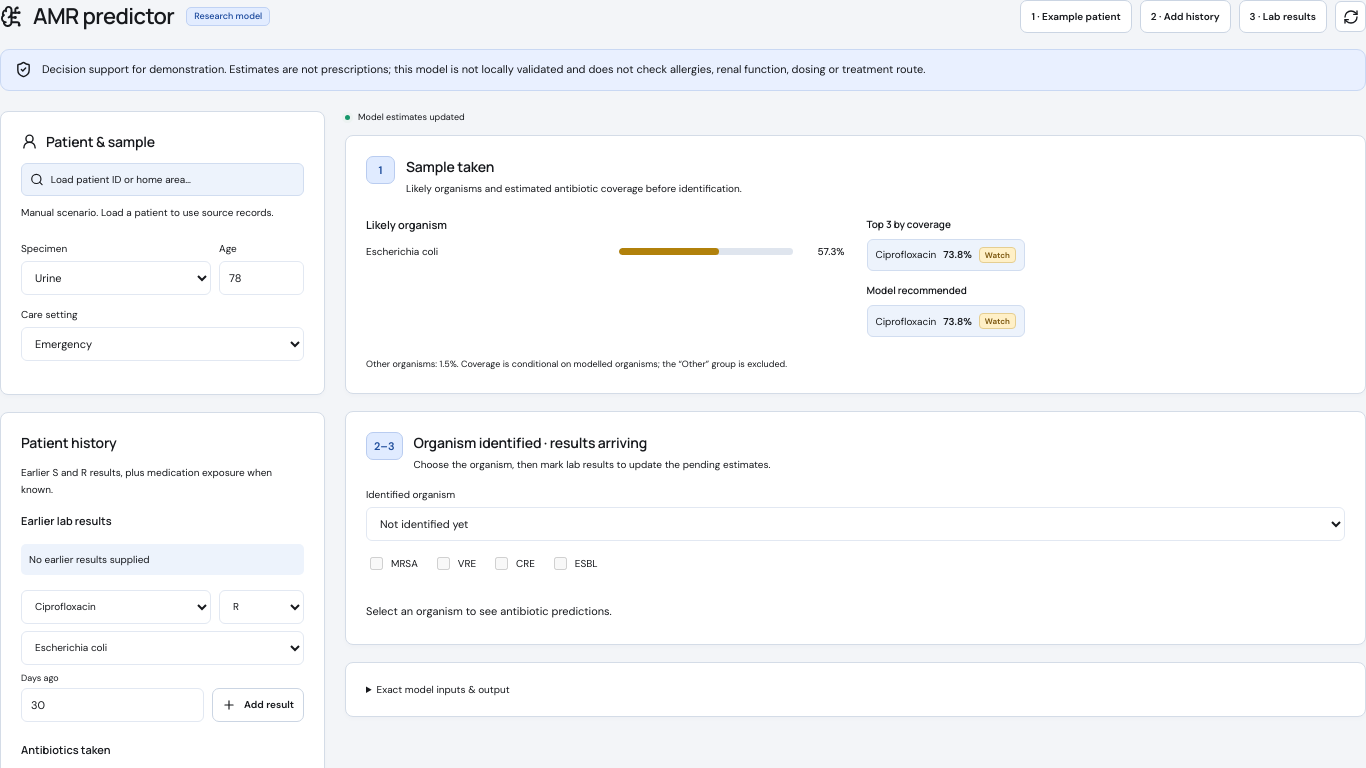
Test: AMR predictor page › updates pending/S/R inputs and shows the supplied explanation
Expected: the text "57.3%" is shown, [818,245,844,258]
Select "Escherichia coli" in the dropdown named "Predictor organism": (856, 524) [366,507,1345,541]
(page scrolled)
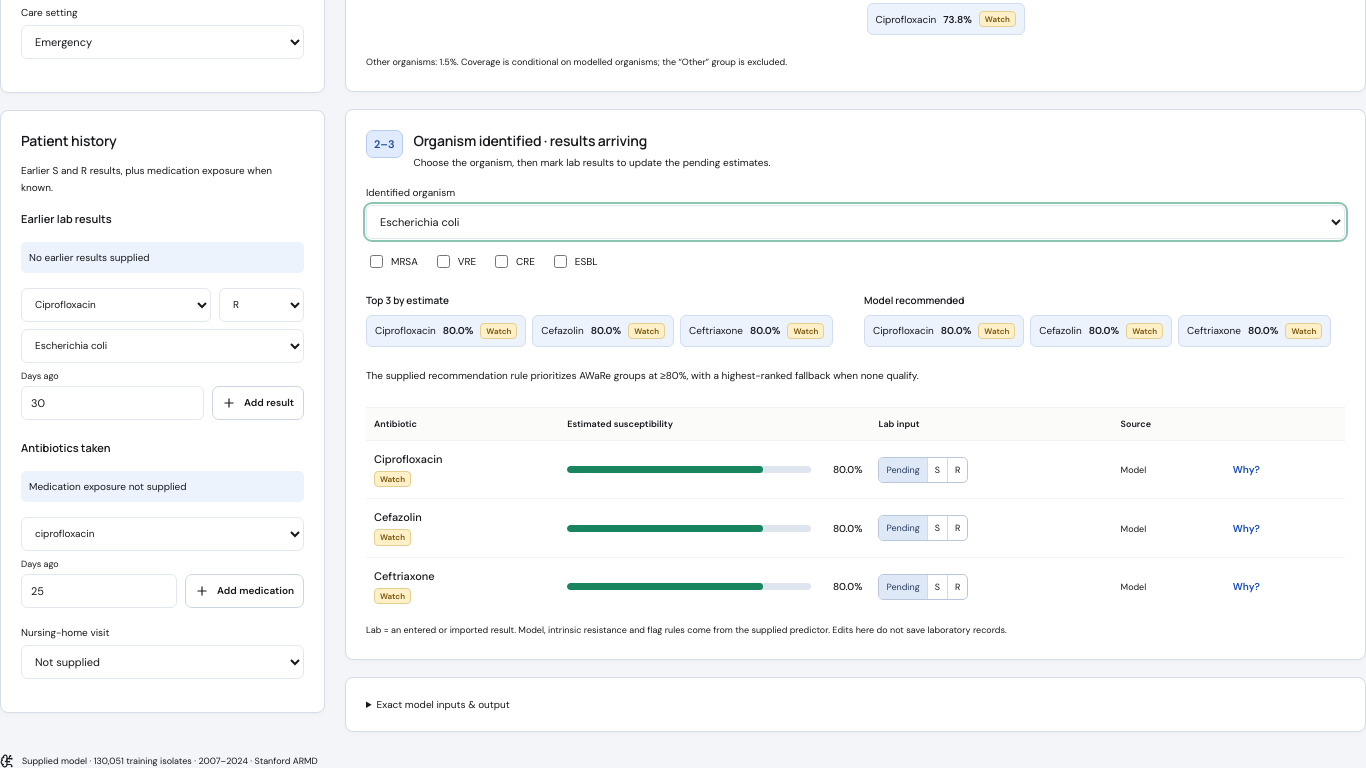
Click the 1st button "R": click(958, 470) [948,458,967,482]
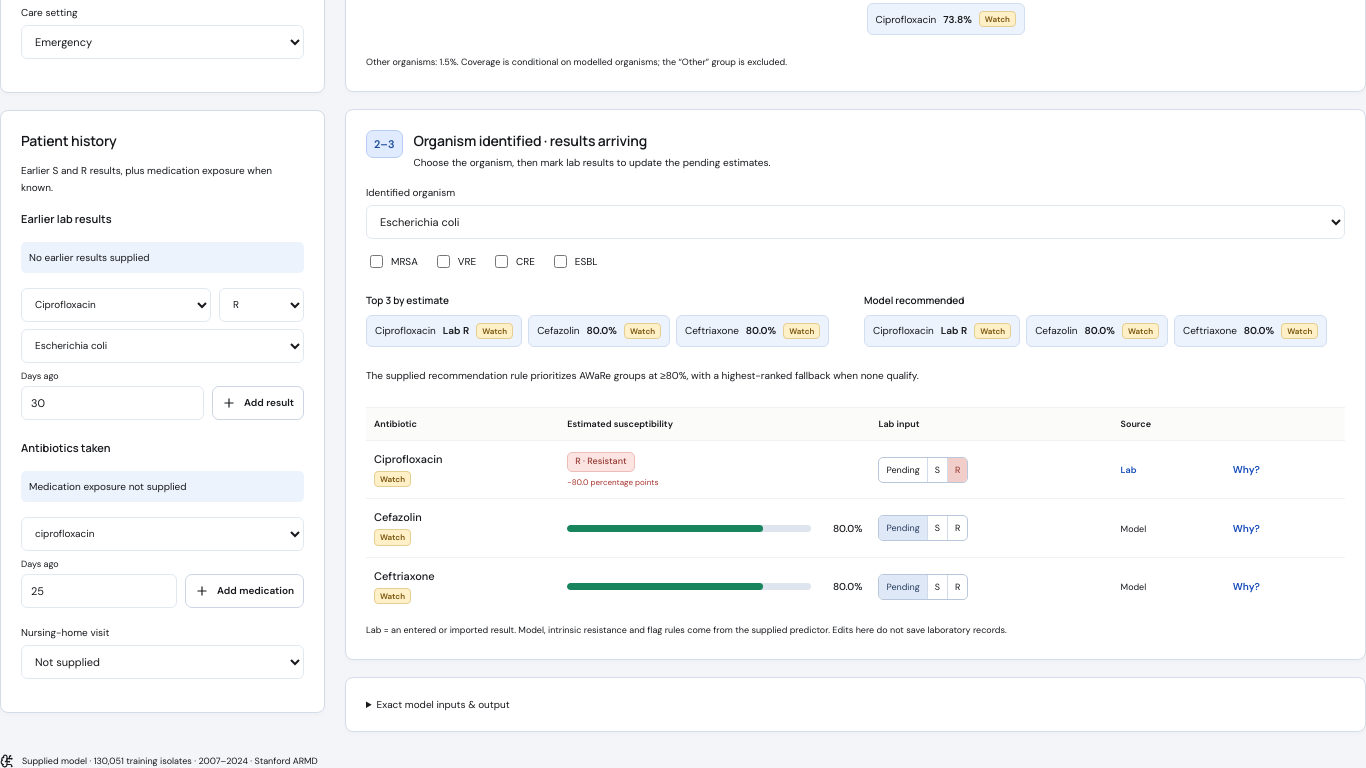
Now the text "R · Resistant" is shown, box [567,452,635,472]
Click the button with aria-label "Explain Ciprofloxacin": click(1246, 470) [1227,462,1266,477]
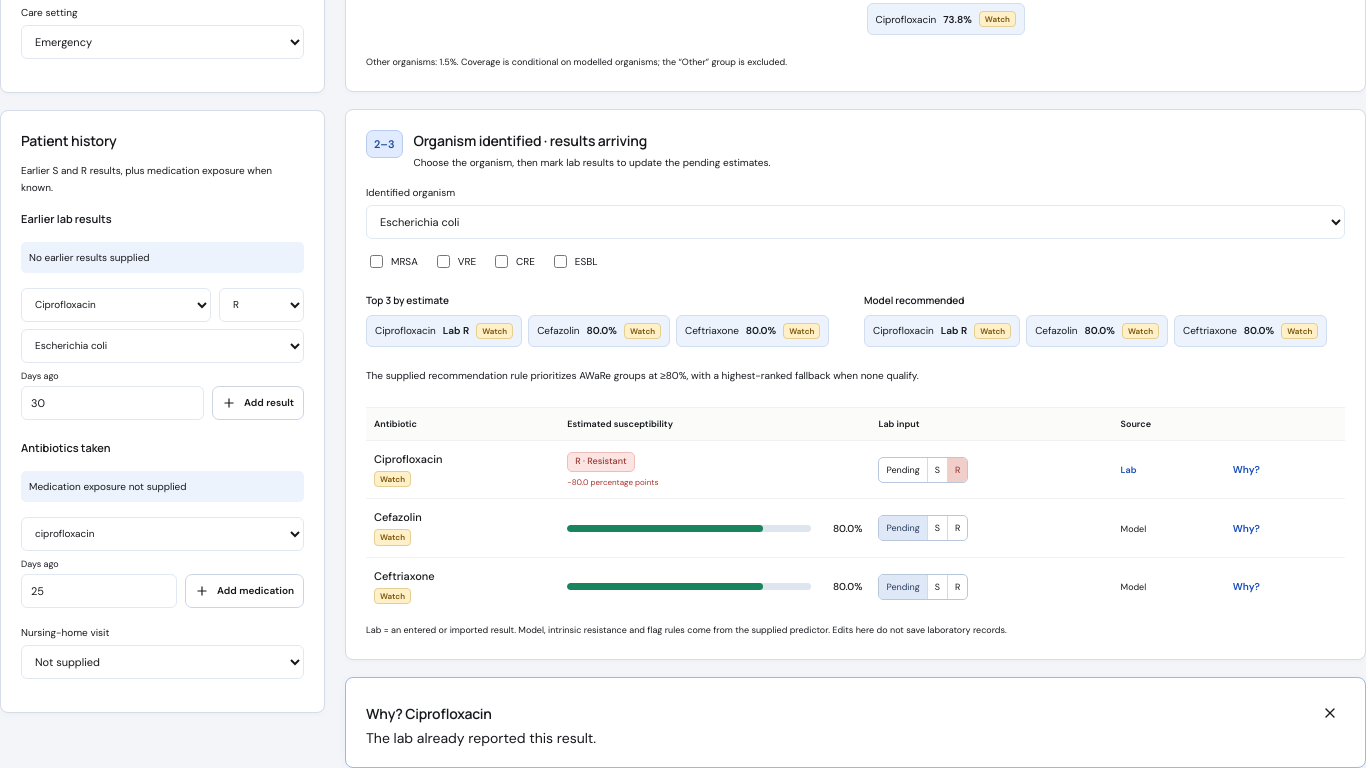
Now the text "The lab already reported this result." is shown, box [366,728,596,746]
Click the button "Pending" in the row of "R · Resistant": click(904, 470) [880,458,928,482]
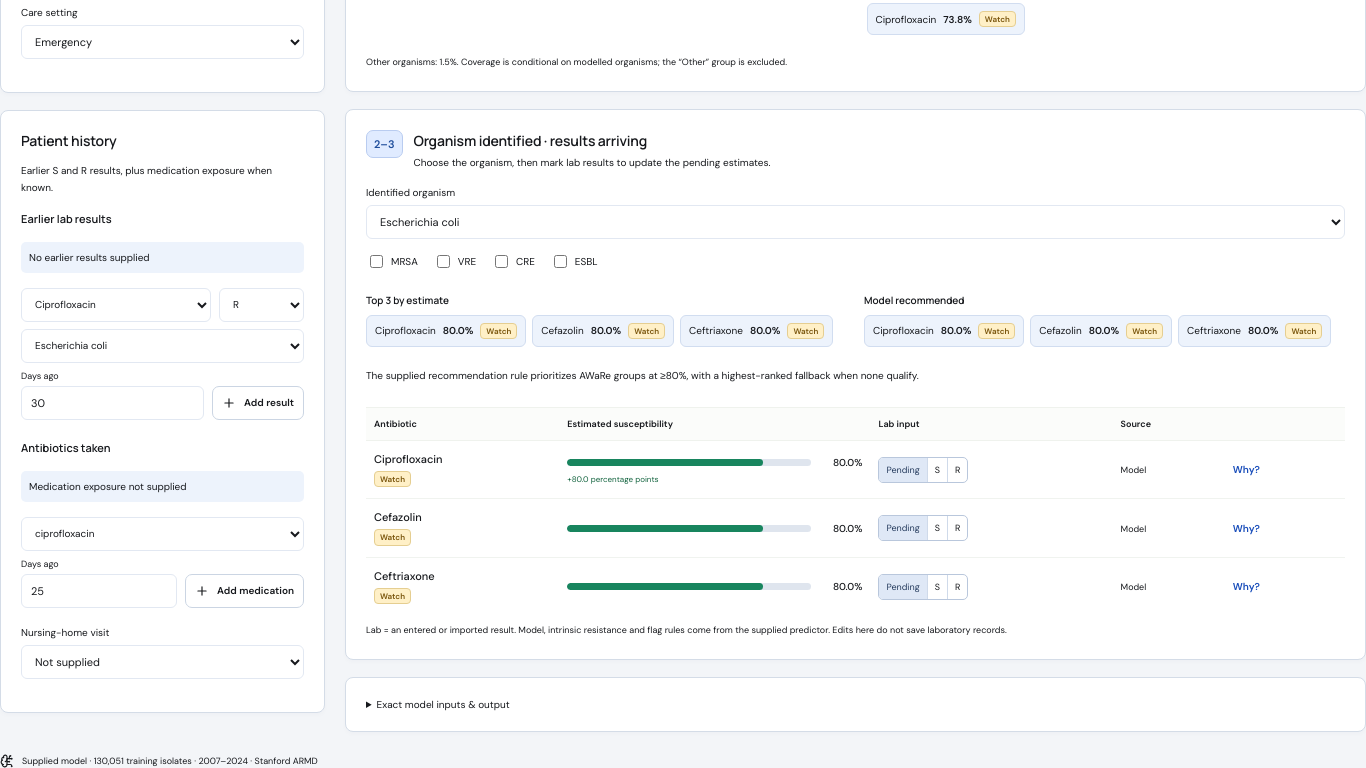
Now the text "R · Resistant" is gone
